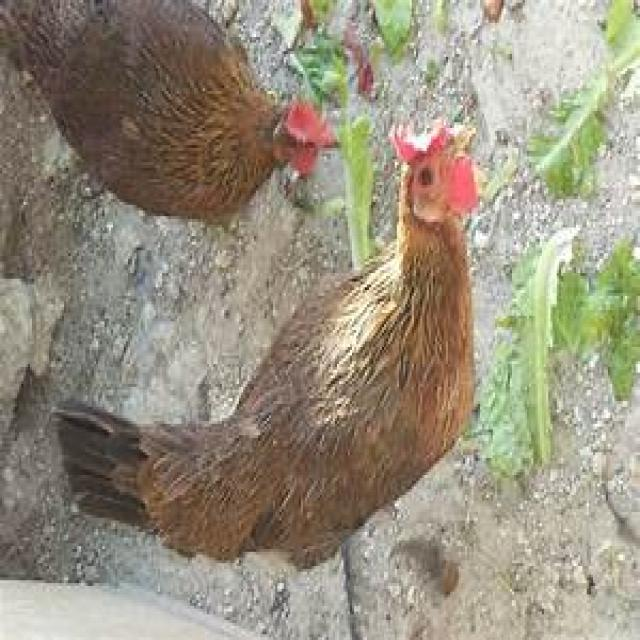animal: (61, 109, 560, 586), (2, 2, 348, 203)
